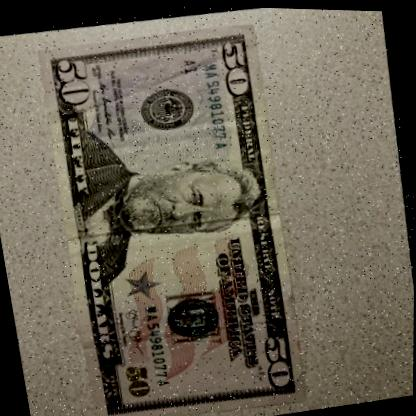dollar_front: (20, 7, 329, 416)
